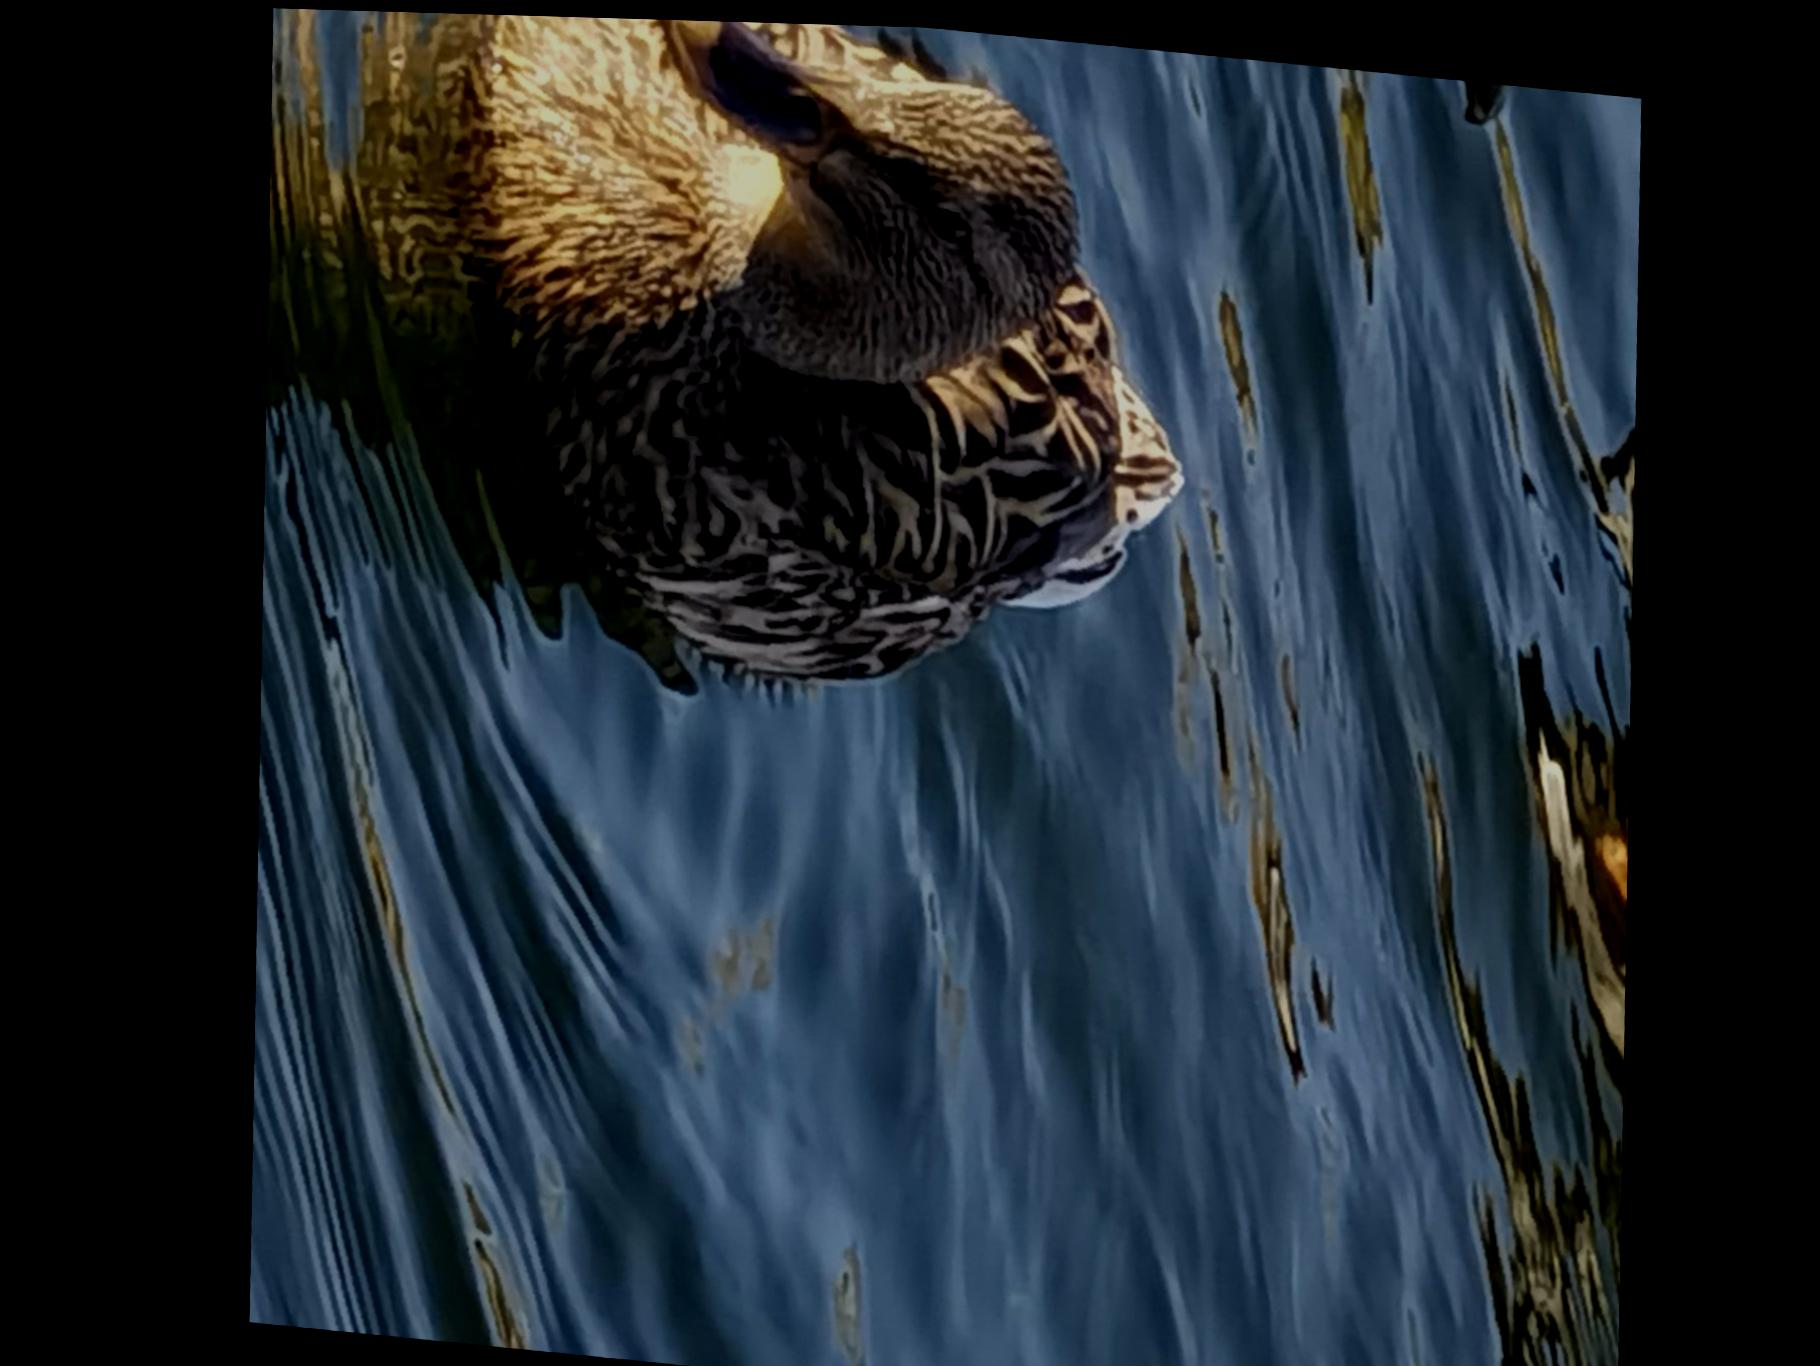duck: (416, 10, 1223, 717)
